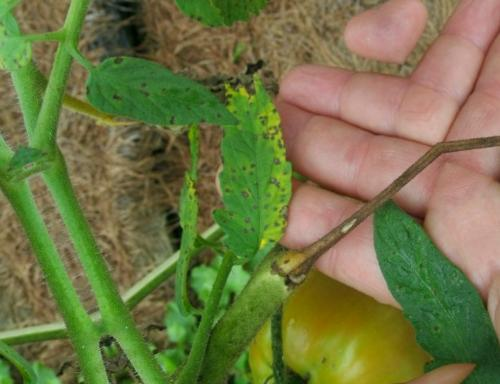Tomato Septoria leaf spot: (164, 65, 336, 272), (354, 184, 500, 384), (80, 22, 246, 181), (157, 0, 326, 45)
